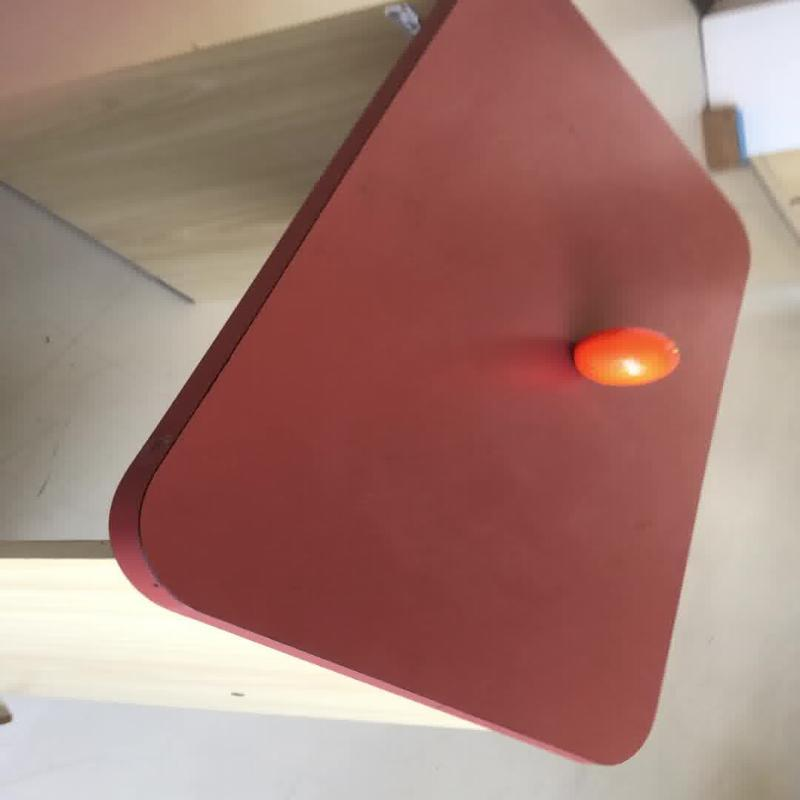orange: (105, 0, 753, 766), (570, 326, 680, 386)
